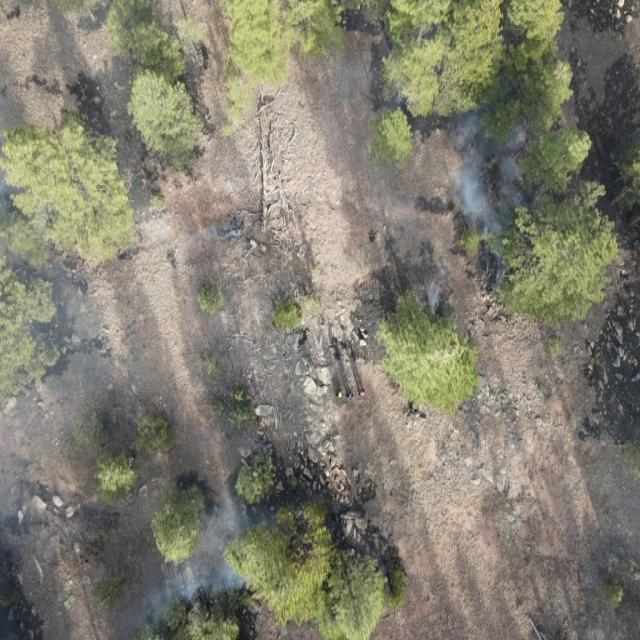fire: (256, 416, 268, 439)
smoke: (0, 0, 275, 640), (276, 0, 530, 334)
